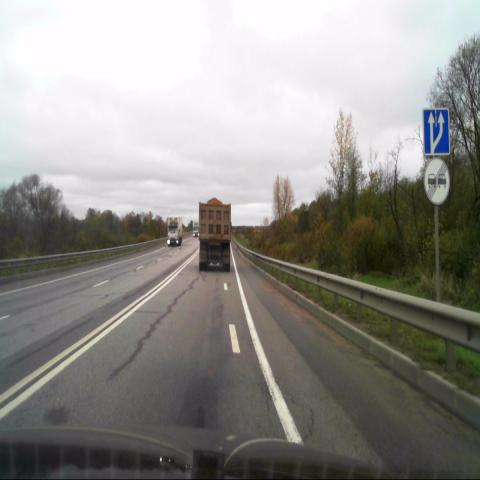3_21: (424, 158, 450, 205)
